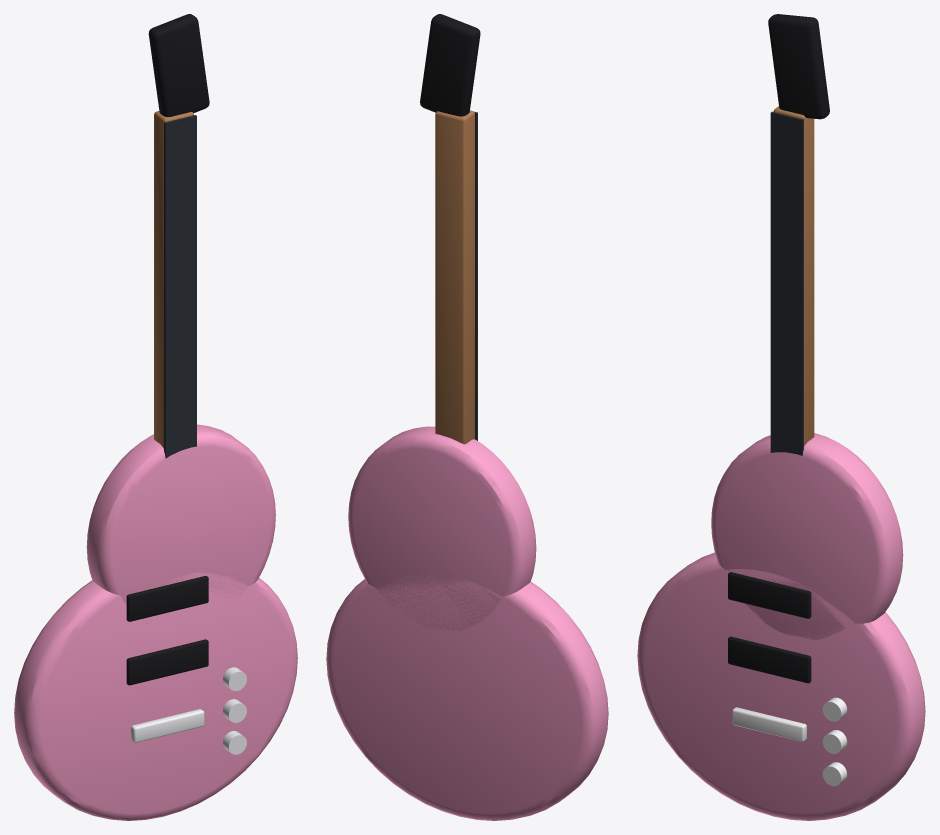
The model's file is guitar.glb.
3 renders of one model, left to right at view 1: azimuth 30°, elevation 25°; view 2: azimuth 150°, elevation 25°; view 3: azimuth 330°, elevation 25°, orthographic. The views are drawn at different scales.
Visible parts, largest first — view 1: bodyA, bodyB, fret, head.001, neck.002, pick0, pick1, bridge; view 2: bodyA, bodyB, neck.002, head.001, fret; view 3: bodyA, bodyB, fret, head.001, neck.002, pick0, pick1, bridge.
Part boxes in pixels (bbox=[...]): bodyA: bbox=[14, 572, 297, 820]; bodyB: bbox=[86, 424, 275, 625]; fret: bbox=[164, 115, 196, 458]; head.001: bbox=[148, 14, 209, 116]; neck.002: bbox=[154, 111, 193, 448]; pick0: bbox=[126, 639, 208, 685]; pick1: bbox=[126, 576, 208, 621]; bridge: bbox=[131, 709, 204, 742]; bodyA: bbox=[326, 574, 608, 820]; bodyB: bbox=[348, 426, 536, 630]; neck.002: bbox=[435, 110, 474, 444]; head.001: bbox=[420, 14, 480, 116]; fret: bbox=[474, 111, 477, 440]; bodyA: bbox=[637, 552, 925, 820]; bodyB: bbox=[711, 433, 903, 640]; fret: bbox=[770, 111, 803, 455]; head.001: bbox=[768, 14, 829, 119]; neck.002: bbox=[773, 106, 814, 446]; pick0: bbox=[728, 636, 811, 683]; pick1: bbox=[728, 572, 811, 618]; bridge: bbox=[732, 707, 806, 741].
Bounding box in the file's own units: 0.5376 × 1.49 × 0.09.
